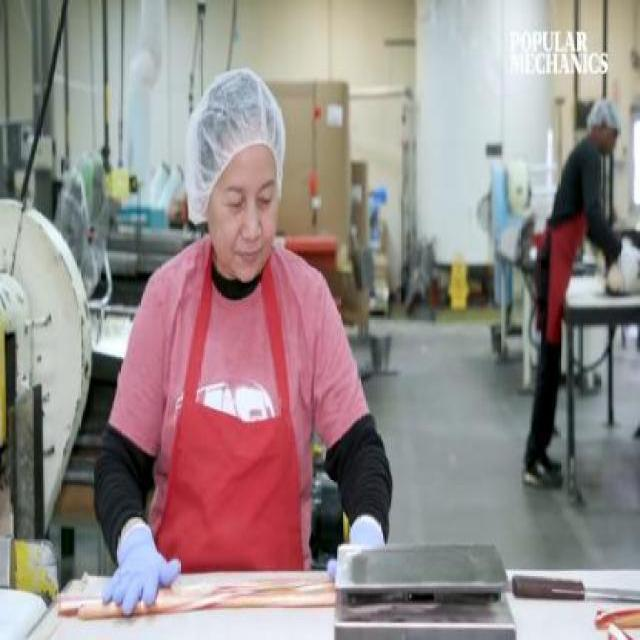gloved_hand: (99, 509, 180, 621), (329, 507, 411, 586)
